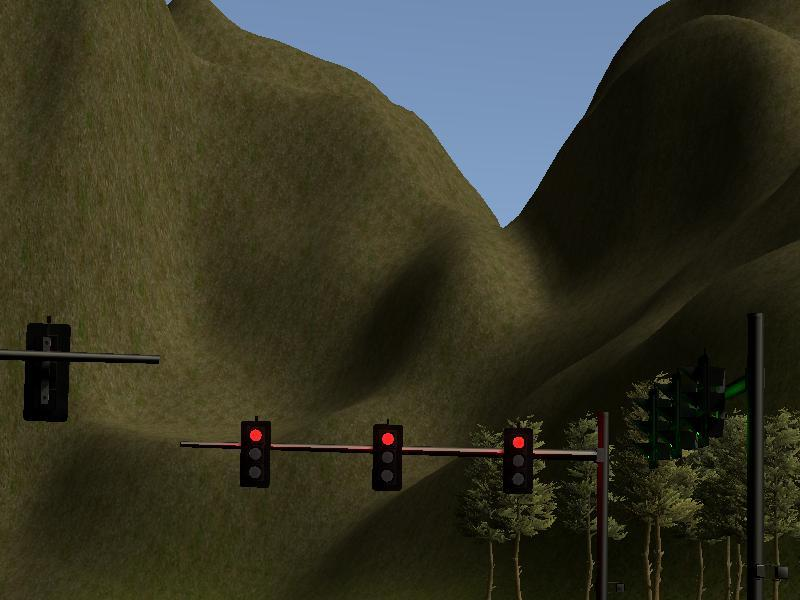Red: (504, 427, 534, 494), (240, 421, 270, 487), (371, 425, 400, 491)
